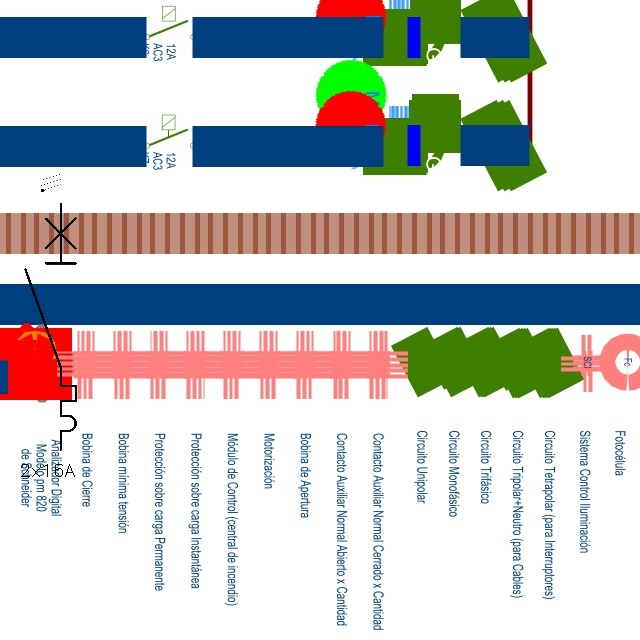interruptor_termomagnetico: (19, 197, 82, 456)
